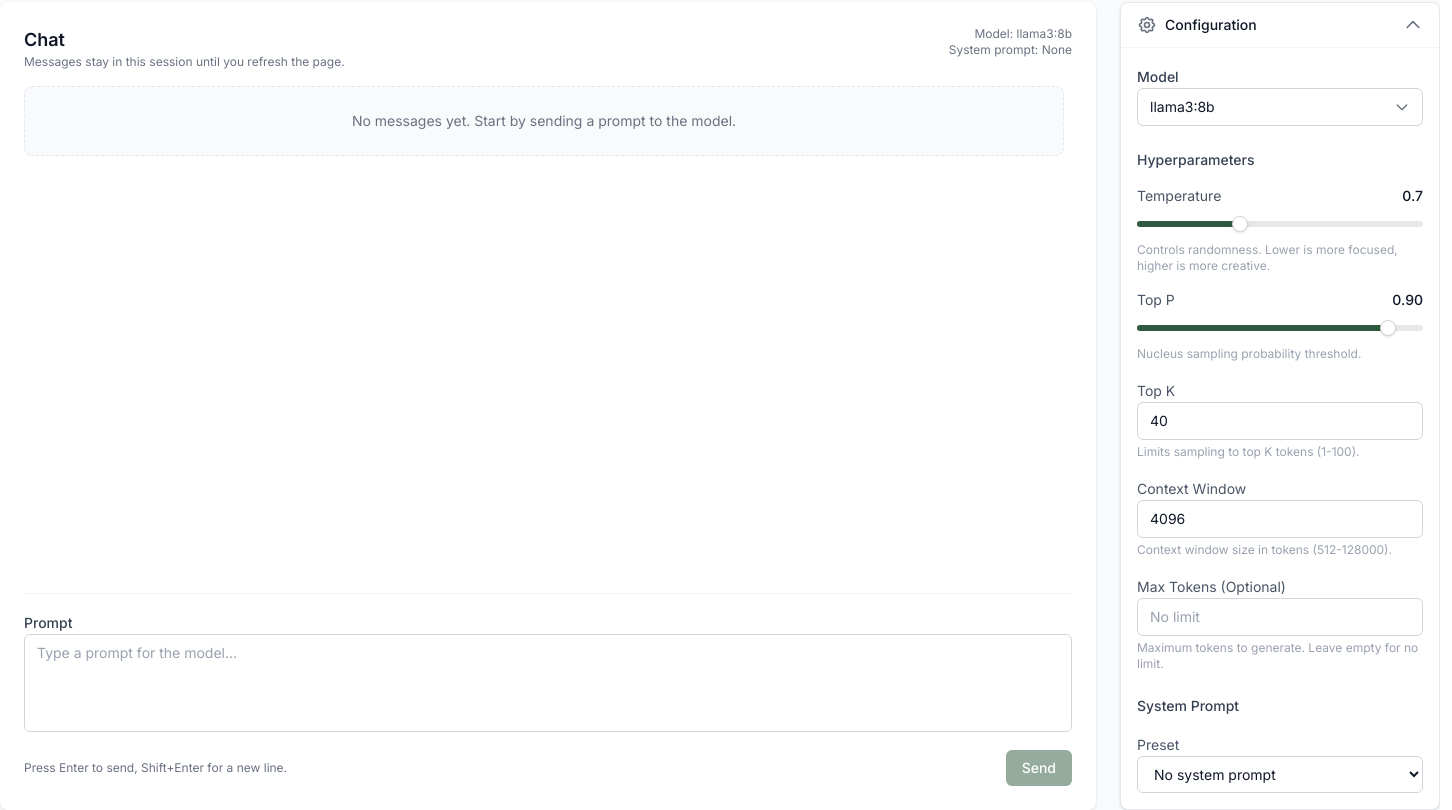
SandboxPage › sends a prompt and renders the response with metrics
(page scrolled)
Type "Hello there" into the text box with test id "sandbox-prompt-input" at {"x": 548, "y": 683}, box left=24, top=634, right=1072, bottom=732
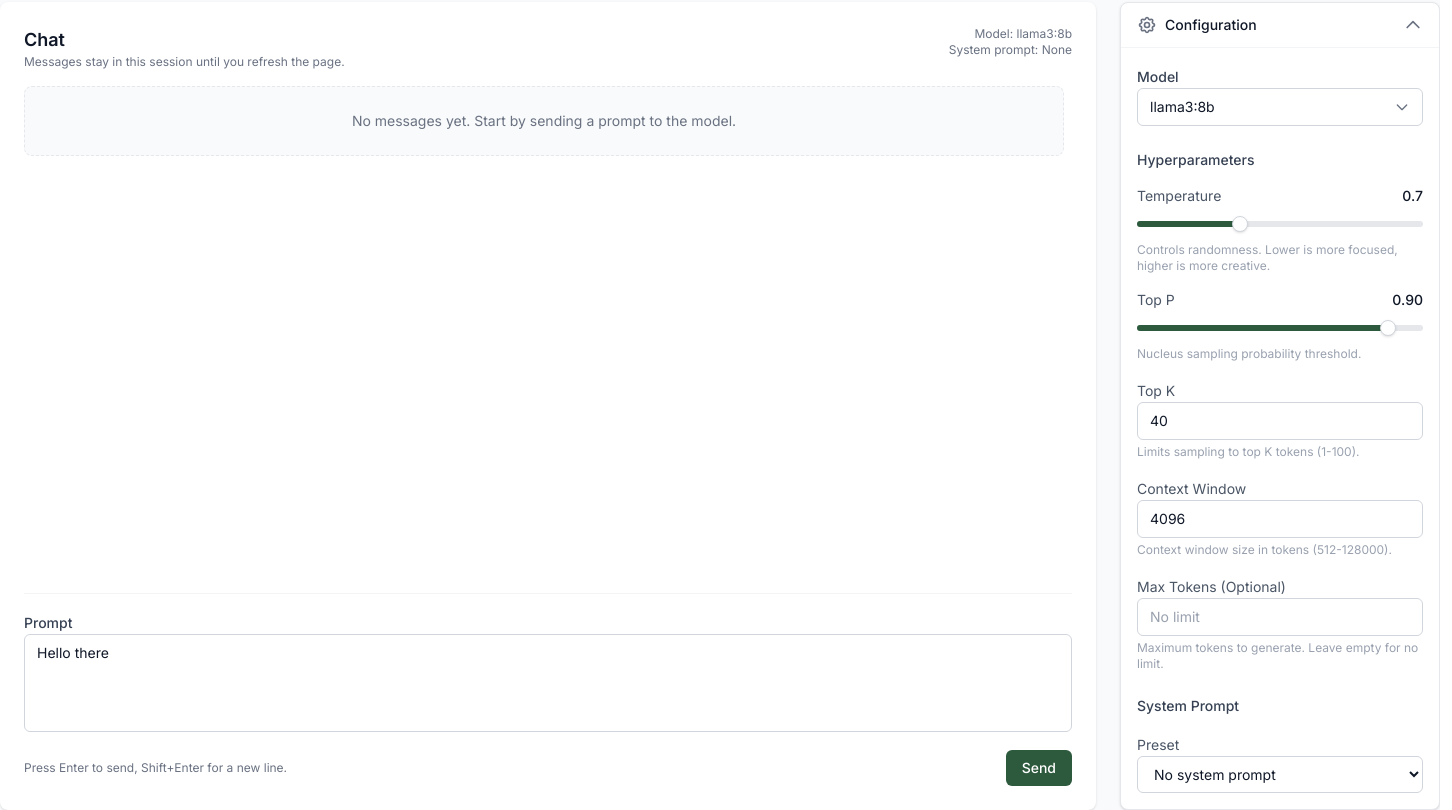
Click the button with test id "sandbox-send-button" at {"x": 1039, "y": 768}, box left=1006, top=750, right=1072, bottom=786
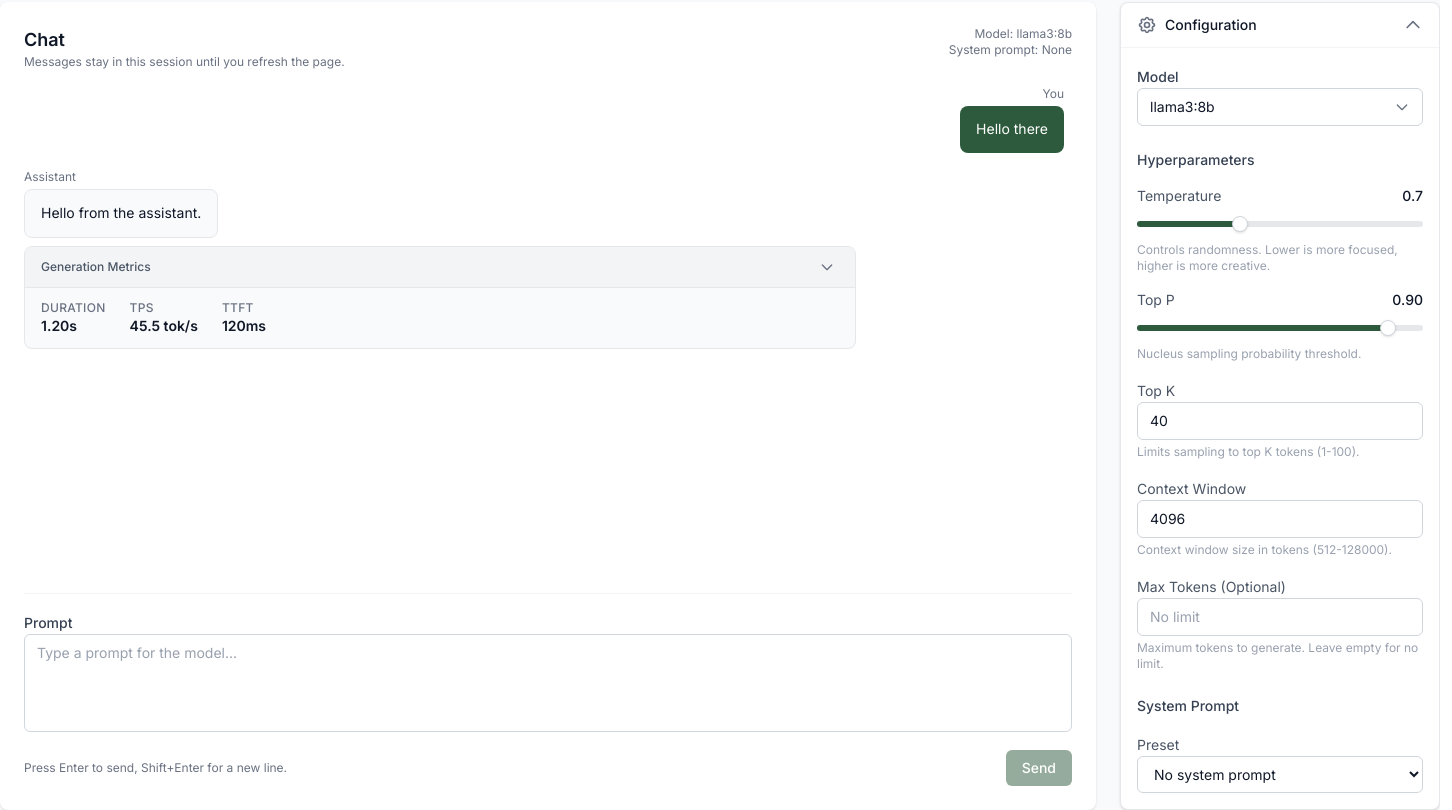
Now the number of elements with test id "sandbox-message-user" is 1, box left=960, top=86, right=1064, bottom=153
Now the number of elements with test id "sandbox-message-assistant" is 1, box left=24, top=169, right=856, bottom=349
Now the text "Hello there" is shown, box left=960, top=106, right=1064, bottom=153
